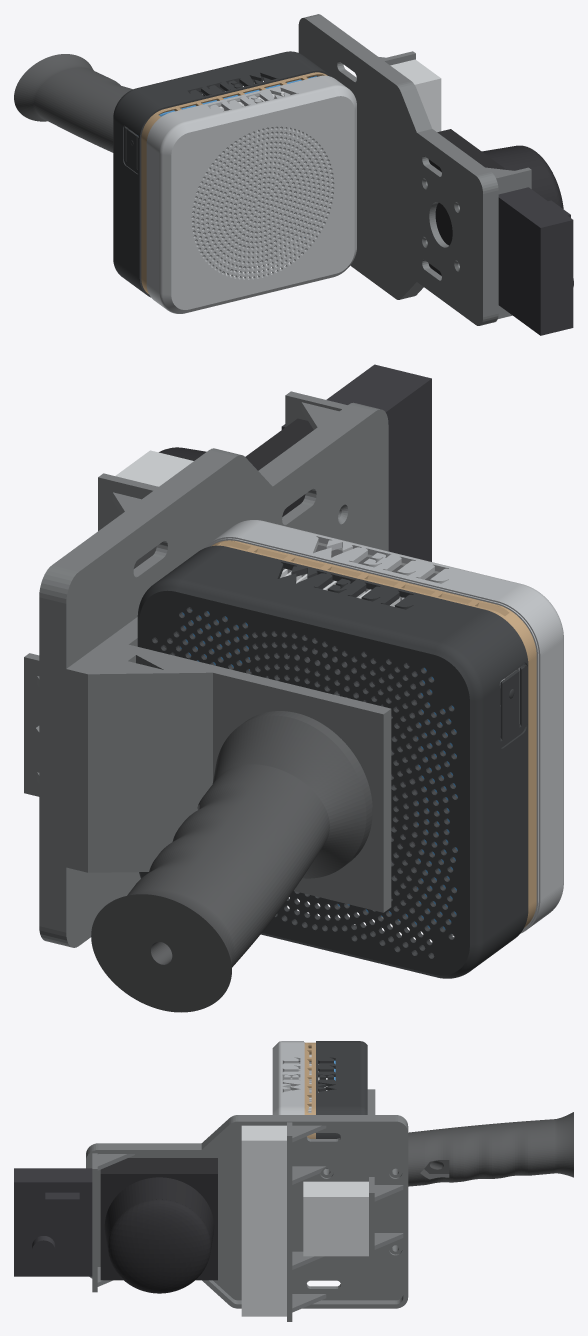
File: scanner_case.glb
3 renders of one model, top to bottom at view 1: azimuth 30°, elevation 25°; view 2: azimuth 150°, elevation 25°; view 3: azimuth 270°, elevation 25°, orthographic. The views are drawn at different scales.
Parts seen in each view (by area): view 1: lid, plate, bottom, maixcam, handle, lidar, ring, d455, fan; view 2: bottom, plate, handle, arm, lid, maixcam, ring, lidar, d455, nvme, pcb; view 3: plate, lidar, handle, d455, maixcam, d405, bottom, lid, ring.
Part boxes in pixels (box(x1,y1,x2,y2)): lid: box(146, 75, 356, 313); plate: box(298, 14, 531, 325); bottom: box(113, 51, 331, 297); maixcam: box(498, 187, 573, 335); handle: box(14, 54, 132, 152); lidar: box(428, 129, 563, 275); ring: box(141, 72, 327, 293); d455: box(390, 59, 441, 132); fan: box(191, 152, 332, 256); bottom: box(137, 545, 528, 978); plate: box(24, 391, 388, 947); handle: box(91, 711, 372, 1012); arm: box(66, 617, 391, 912); lid: box(205, 520, 563, 933); maixcam: box(281, 364, 431, 561); ring: box(211, 540, 536, 927); lidar: box(159, 418, 313, 516); d455: box(115, 450, 193, 486); nvme: box(250, 631, 417, 910); pcb: box(180, 609, 457, 929); plate: box(86, 1115, 408, 1321); lidar: box(100, 1158, 217, 1293); handle: box(408, 1112, 573, 1186); d455: box(241, 1125, 286, 1316); maixcam: box(14, 1168, 92, 1276); d405: box(303, 1181, 368, 1256); bottom: box(316, 1041, 367, 1168); lid: box(272, 1041, 311, 1114); ring: box(304, 1042, 315, 1138).
Bounding box in the file's own units: 206 × 132 × 358.
